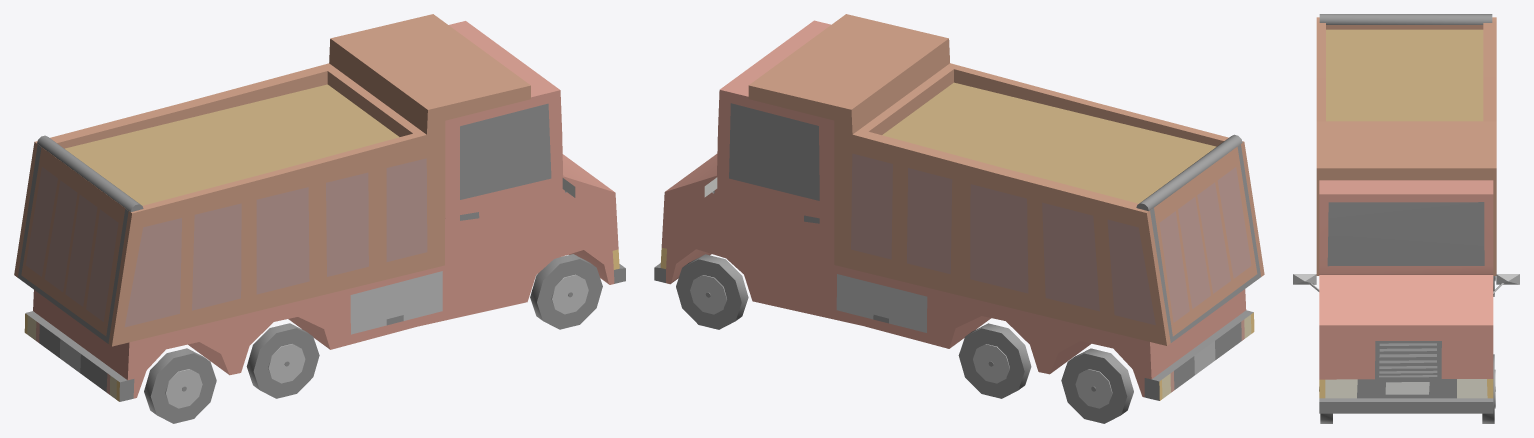
Rendered from truck4.fbx.
The picture shows the model from 3 angles, left to right: view 1: azimuth 30°, elevation 25°; view 2: azimuth 150°, elevation 25°; view 3: azimuth 270°, elevation 25°; orthographic projection. The views are drawn at different scales.
Parts seen in each view (by area): view 1: Cylinder_2, Cylinder, Cylinder_9, Cylinder_6; view 2: Cylinder_2, Cylinder_8, Cylinder_1, Cylinder_7; view 3: Cylinder_2, Cylinder_7.
Part boxes in pixels (x1=…): Cylinder_2: x1=14, y1=14, x2=625, y2=401; Cylinder: x1=246, y1=323, x2=319, y2=398; Cylinder_9: x1=144, y1=348, x2=216, y2=423; Cylinder_6: x1=530, y1=254, x2=602, y2=329; Cylinder_2: x1=654, y1=14, x2=1264, y2=400; Cylinder_8: x1=1061, y1=348, x2=1133, y2=423; Cylinder_1: x1=958, y1=323, x2=1031, y2=398; Cylinder_7: x1=676, y1=254, x2=748, y2=329; Cylinder_2: x1=1293, y1=14, x2=1519, y2=413; Cylinder_7: x1=1482, y1=354, x2=1495, y2=423.
Bounding box in the file's own units: 597 × 281 × 247.
